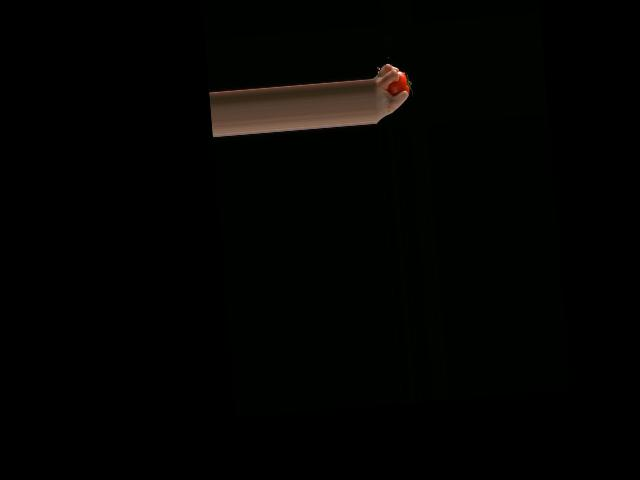tomato: (386, 71, 409, 96)
